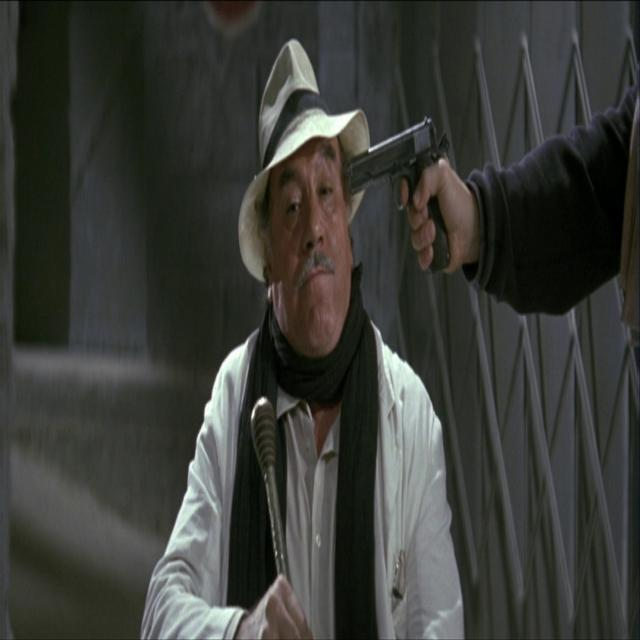gun-knife-thesis - v11 Yolov5 augmented: (347, 100, 457, 294)
